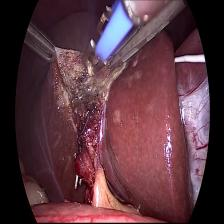Bipolar: (79, 3, 131, 80)
Grasper: (102, 17, 155, 82), (22, 22, 57, 66)
